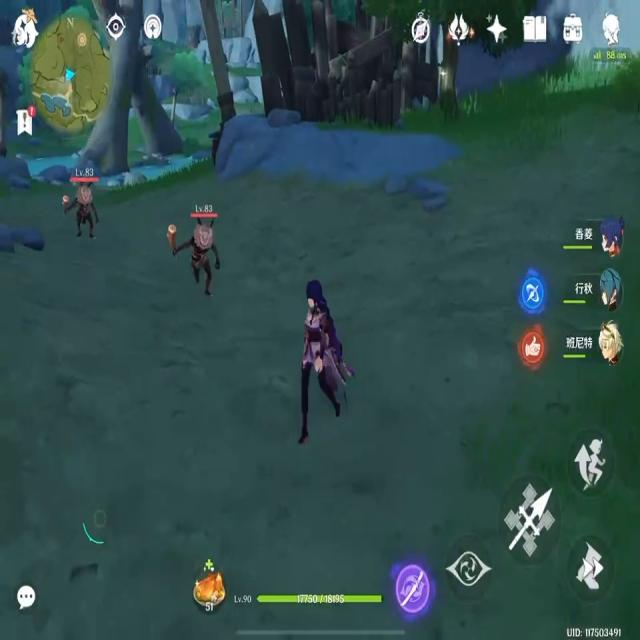genshin-hilichurls: (185, 218, 222, 298), (73, 184, 101, 245)
